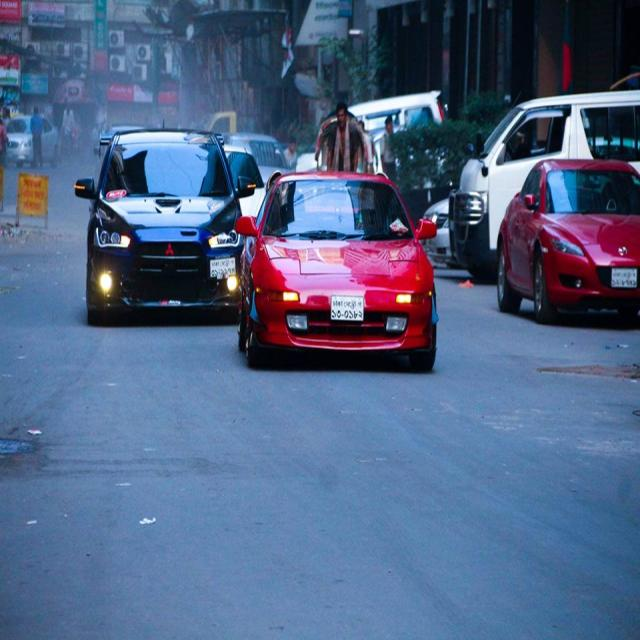numberplate: (329, 294, 365, 322), (208, 254, 237, 280), (610, 266, 638, 290)
